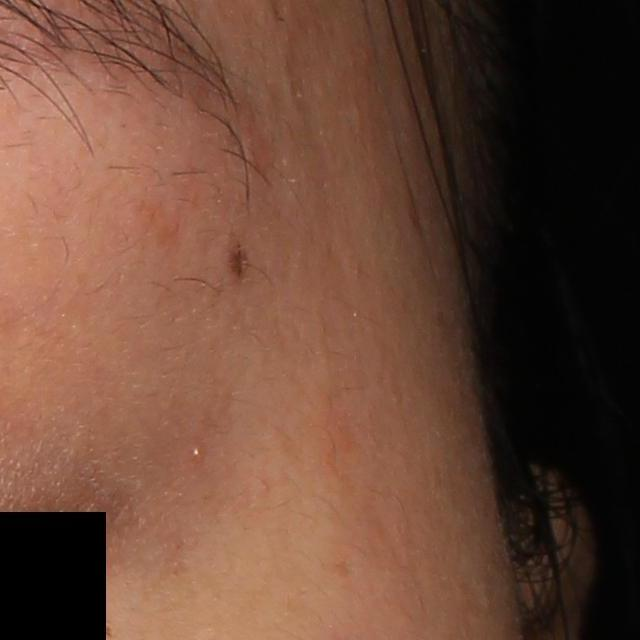nevus: (229, 231, 252, 280)
